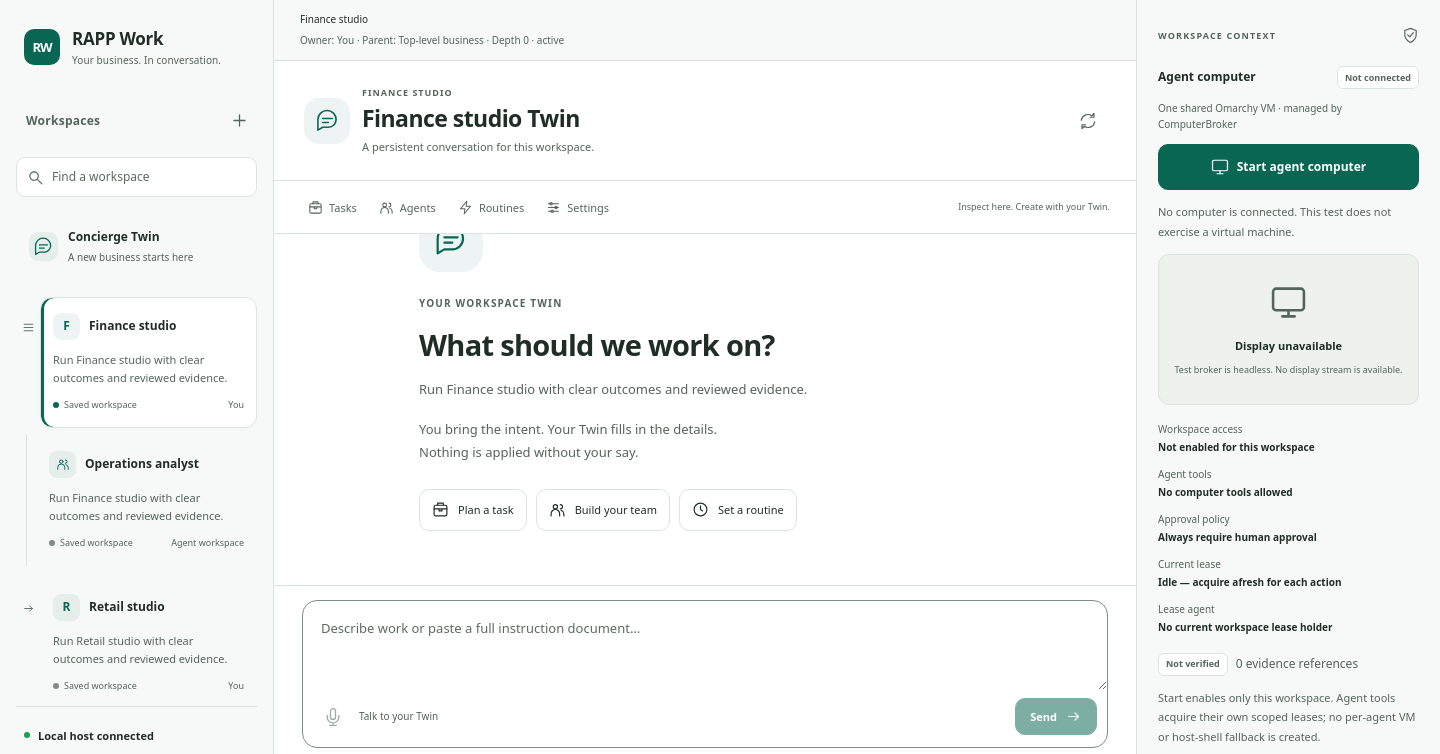
Test case: one shared agent computer with workspace-scoped activation and leases › shows starting without inventing running, and ignores the old operation when navigating away
(page scrolled)
Expected: the heading "Finance studio Twin" is shown, 362,103 -> 594,134
What coordinates should you click on to do the following:
click the button "Start agent computer"
I would click on:
 (1288, 167)
Its box is 1158,144 -> 1419,190.
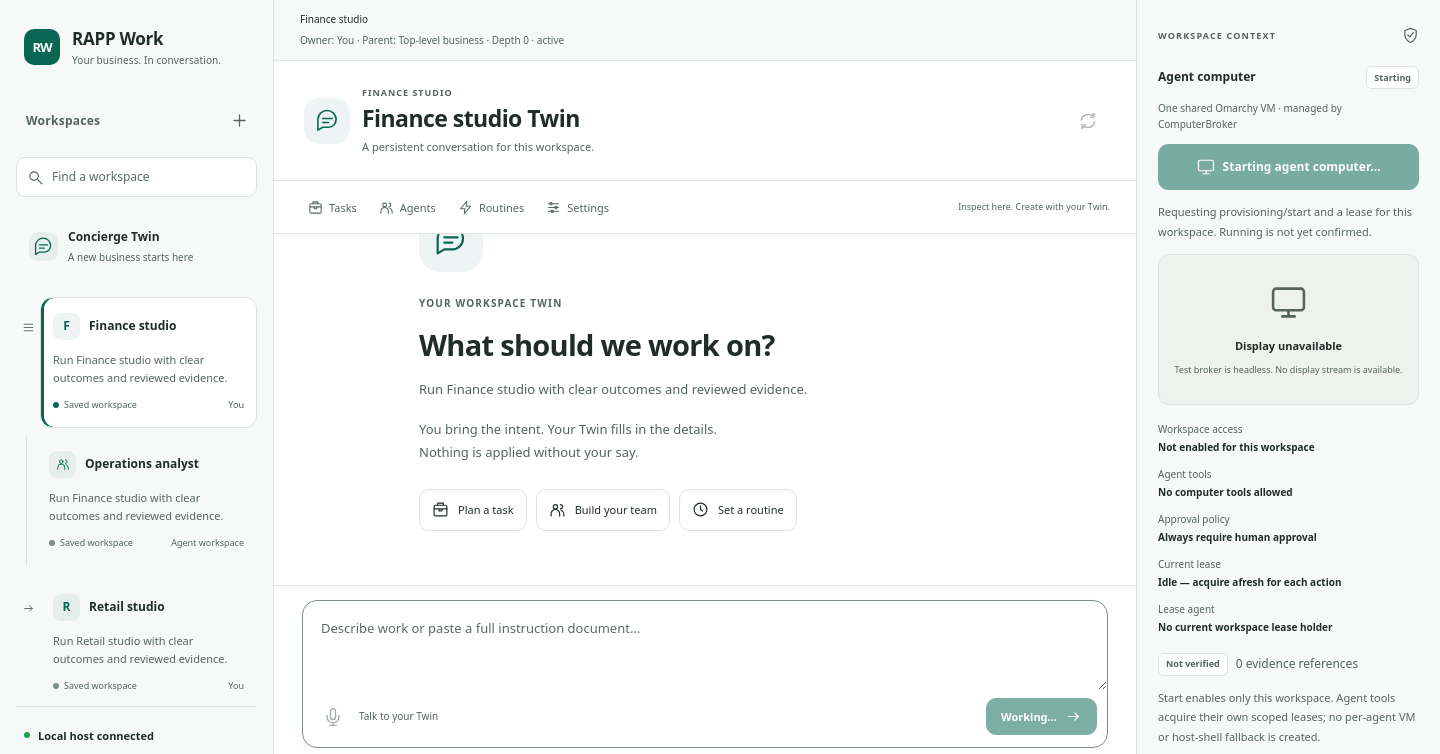
Expected: the text "Starting" is shown, 1366,66 -> 1419,89
What coordinates should you click on to do the following:
click the button named "Open workspace Retail studio"
I would click on:
 (148, 644)
Its box is 40,578 -> 257,709.
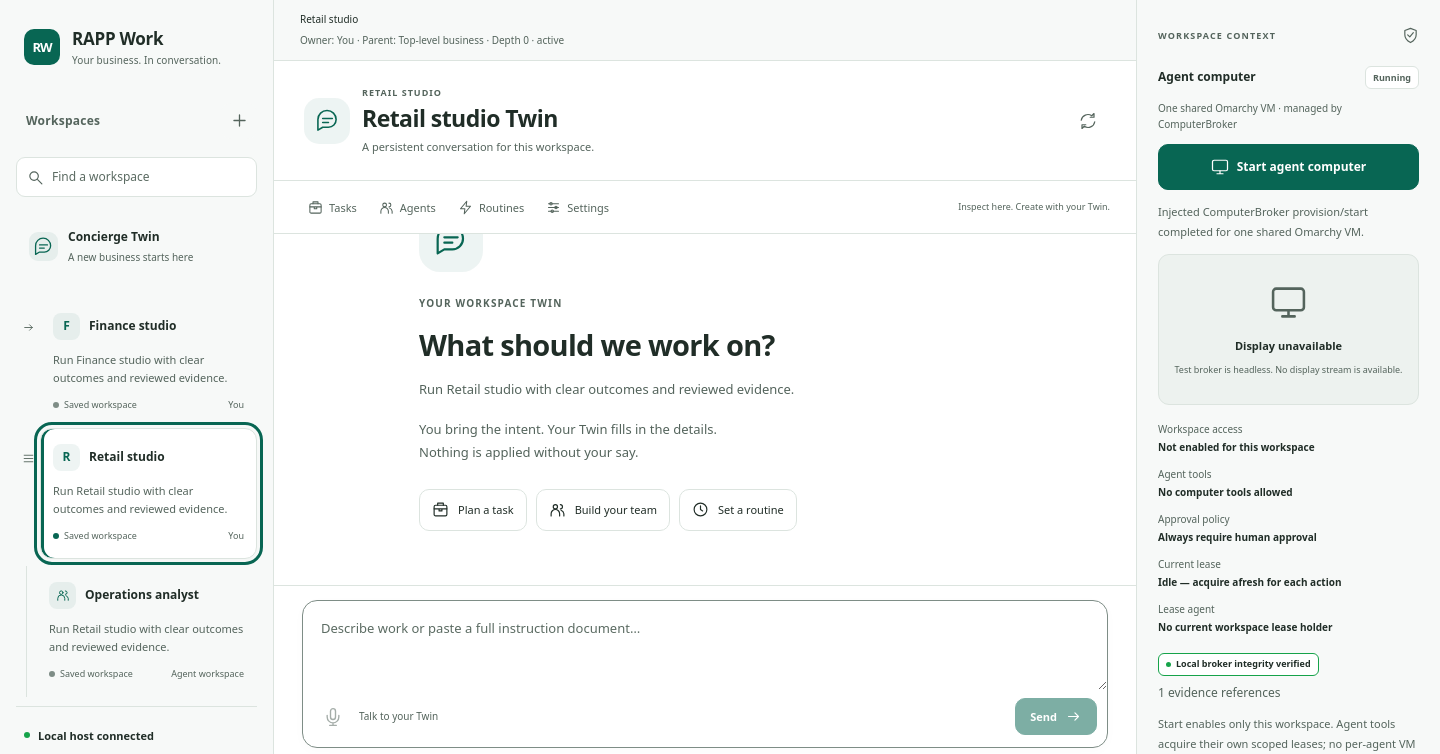
Expected: the heading "Retail studio Twin" is shown, 362,102 -> 558,134
Expected: the button "Starting agent computer…" is gone
